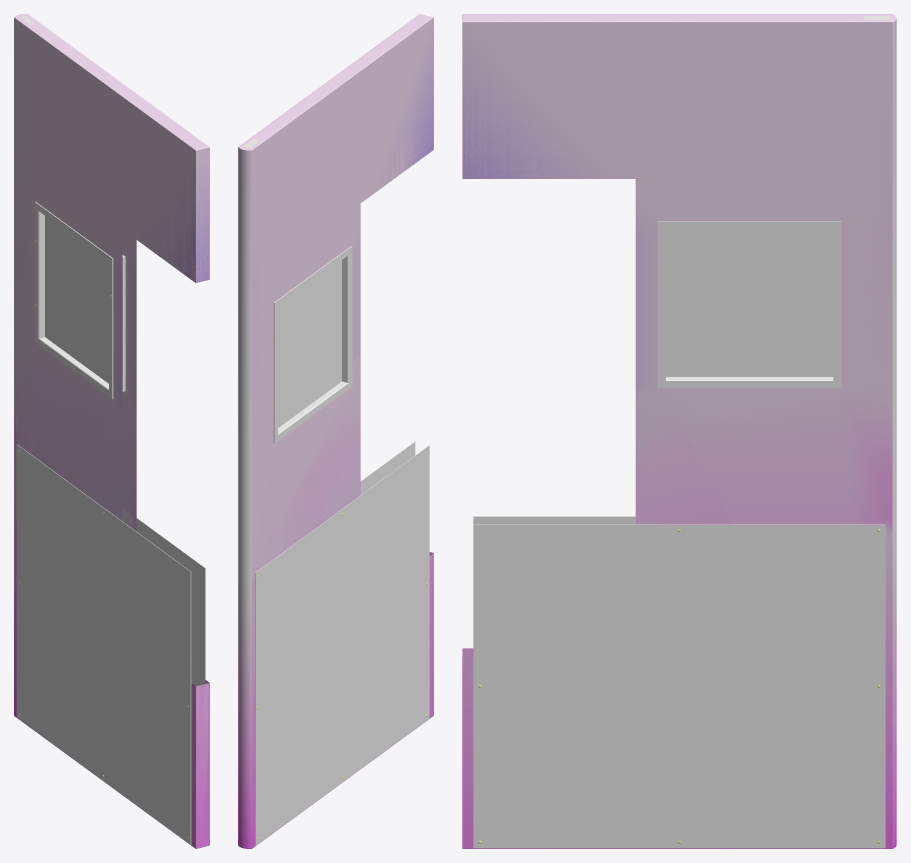
The model's file is Kit_DoorLeafBreak_Ward_DA.fbx.
3 views of the same model, side by side, from view 1: azimuth 30°, elevation 25°; view 2: azimuth 150°, elevation 25°; view 3: azimuth 270°, elevation 25° (orthographic). The views are drawn at different scales.
Parts seen in each view (by area): view 1: body_L0, body_L2, armor_win_L2, body_L1; view 2: body_L0, body_L2, armor_win_L2, body_L1; view 3: body_L0, body_L2, armor_win_L2, body_L1.
Part boxes in pixels (box(x1,y1,x2,y2)): body_L0: box(14, 14, 209, 848); body_L2: box(14, 15, 209, 848); armor_win_L2: box(122, 518, 205, 682); body_L1: box(15, 14, 209, 847); body_L0: box(238, 14, 433, 848); body_L2: box(239, 17, 433, 846); armor_win_L2: box(360, 442, 429, 606); body_L1: box(240, 14, 433, 555); body_L0: box(462, 14, 896, 848); body_L2: box(462, 14, 893, 848); armor_win_L2: box(473, 516, 635, 656); body_L1: box(462, 14, 895, 656).
Size of the model in its own units: 0.0498 by 2.08 by 0.99.
